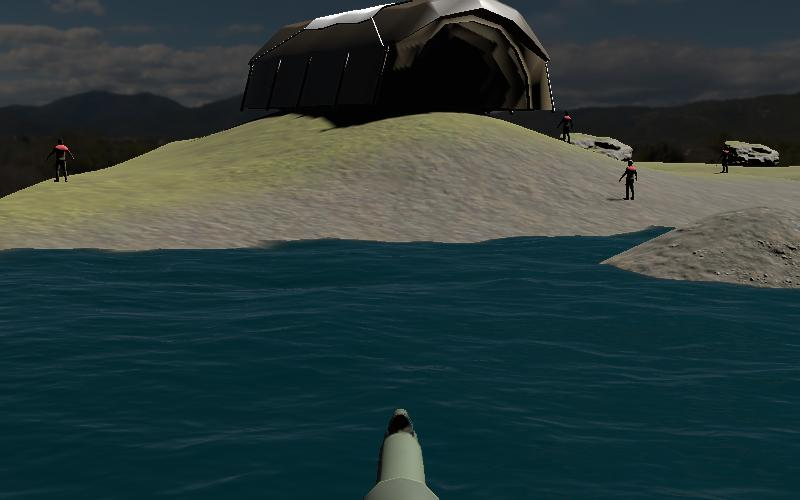Human: (45, 135, 76, 185), (616, 157, 640, 204), (556, 108, 576, 146)
